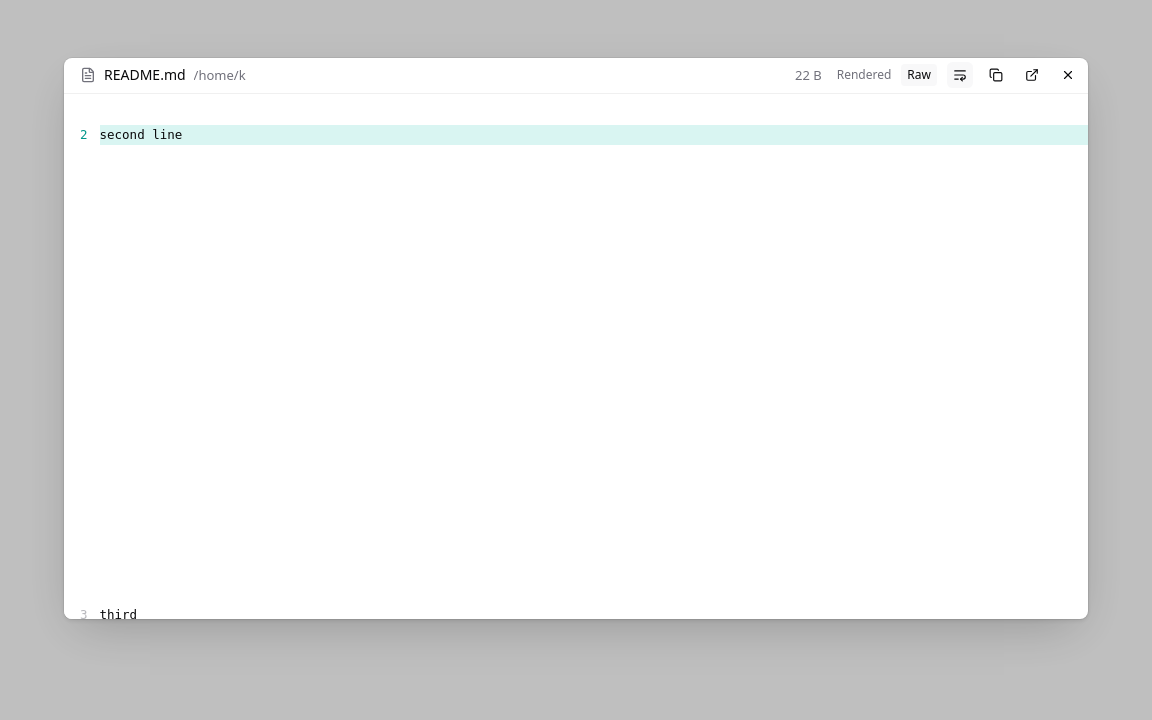
Test case: FileViewer › opens raw when the click named a line, rendering still offered
(page scrolled)
What coordinates should you click on to do the following:
click the button "Rendered"
I would click on:
 (864, 75)
Its box is left=830, top=63, right=898, bottom=87.
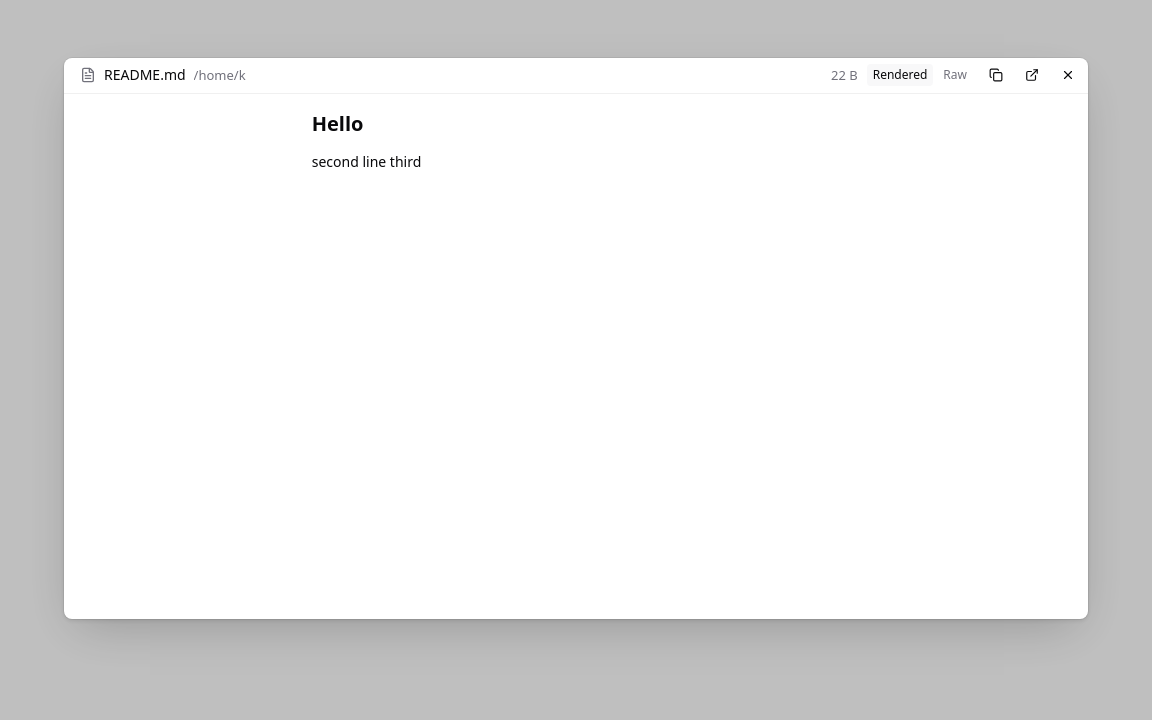
Check: the heading "Hello" is shown, box left=312, top=110, right=363, bottom=137
